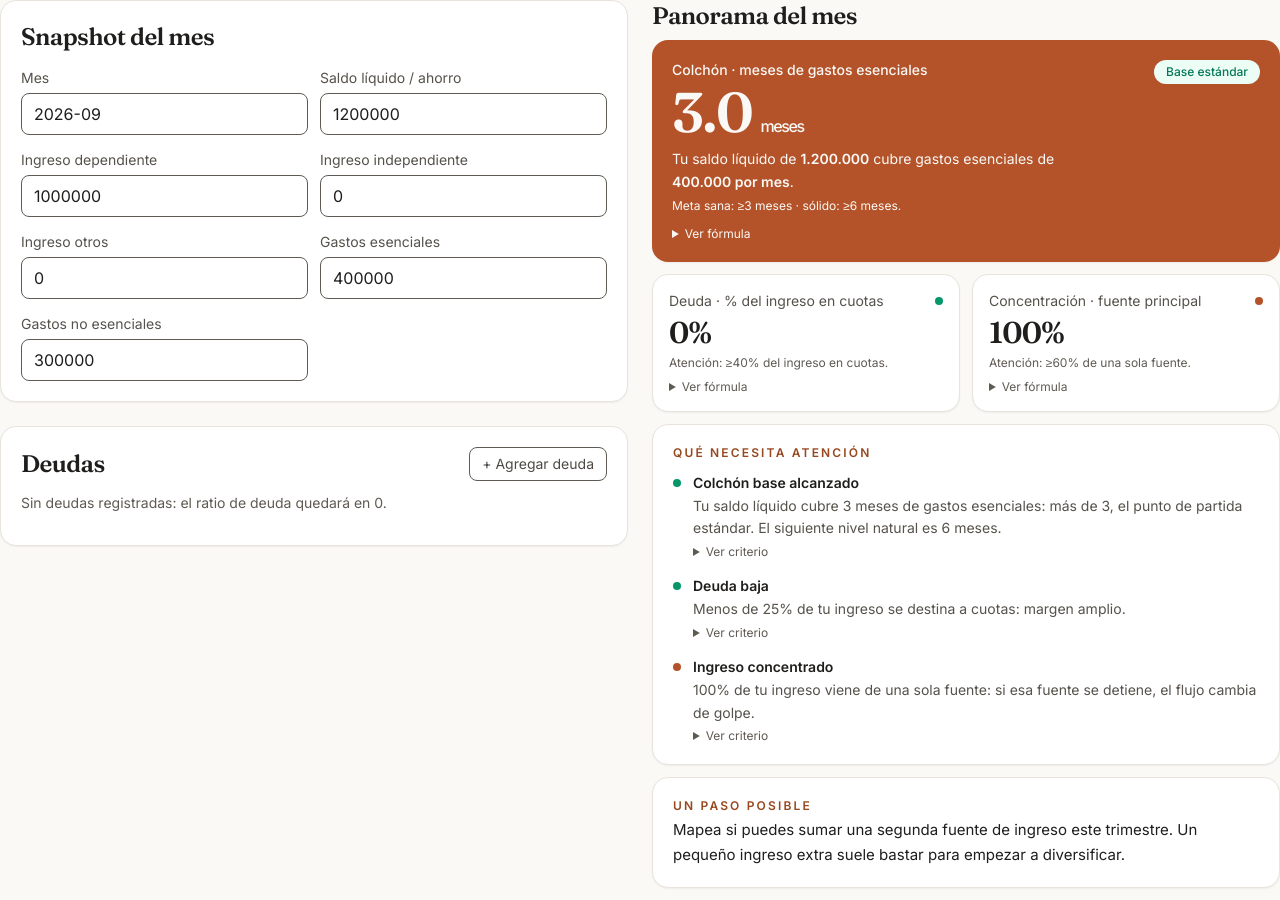
FotoFinanciera (paso finanzas) › recalcula el ratio de deuda al agregar una cuota
This screenshot has width=1280, height=900.
Click the button "+ Agregar deuda": (538,464) x1=469 y1=447 x2=607 y2=481
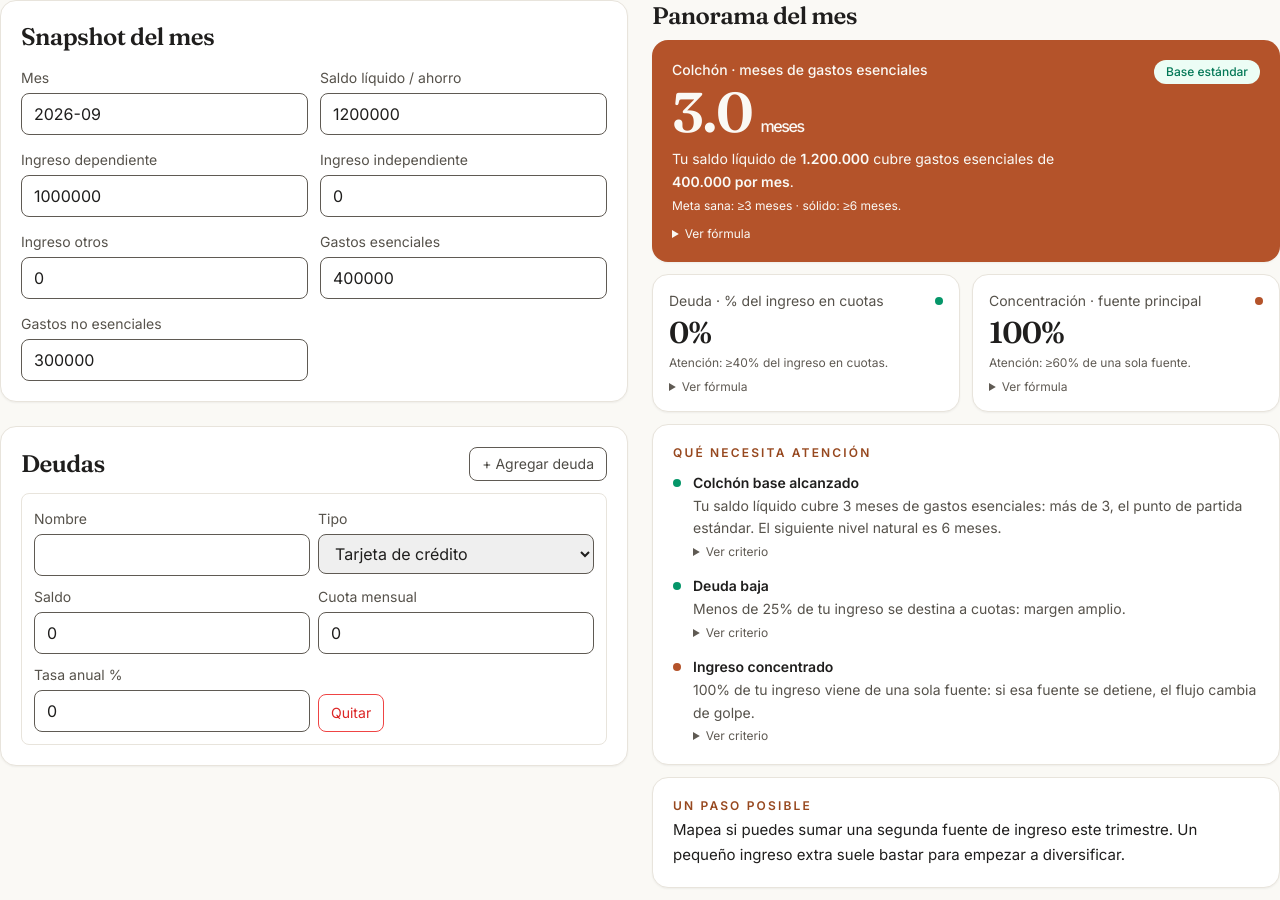
Replace the text in the field labelled "Cuota mensual" with "400000": (456,633) x1=318 y1=612 x2=594 y2=654
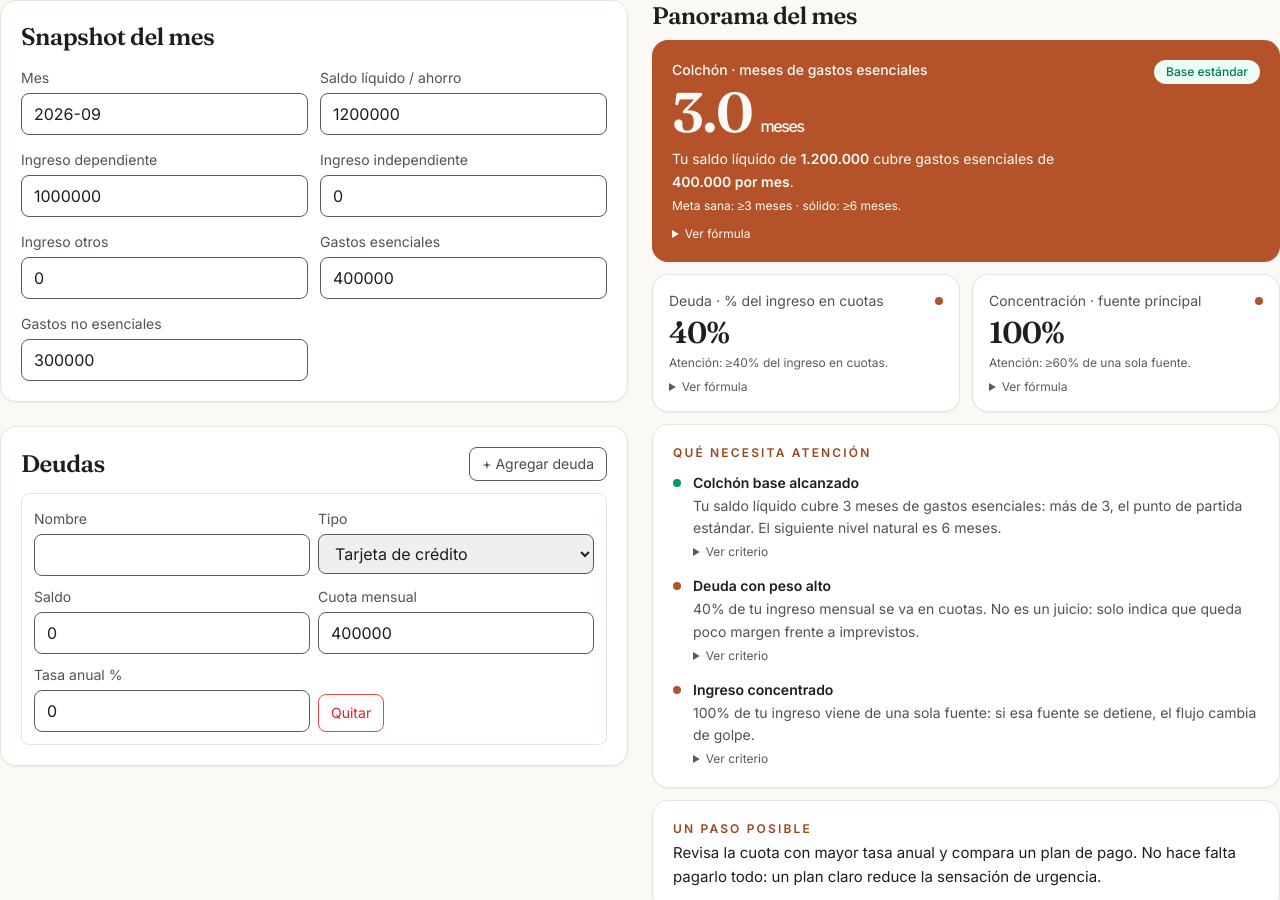
Result: the text "40%" is shown at x1=669 y1=314 x2=729 y2=350
